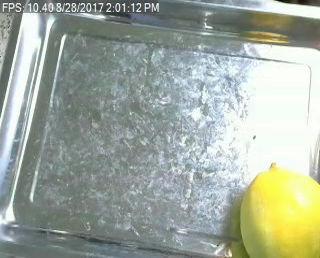Mango: (239, 166, 320, 258)
